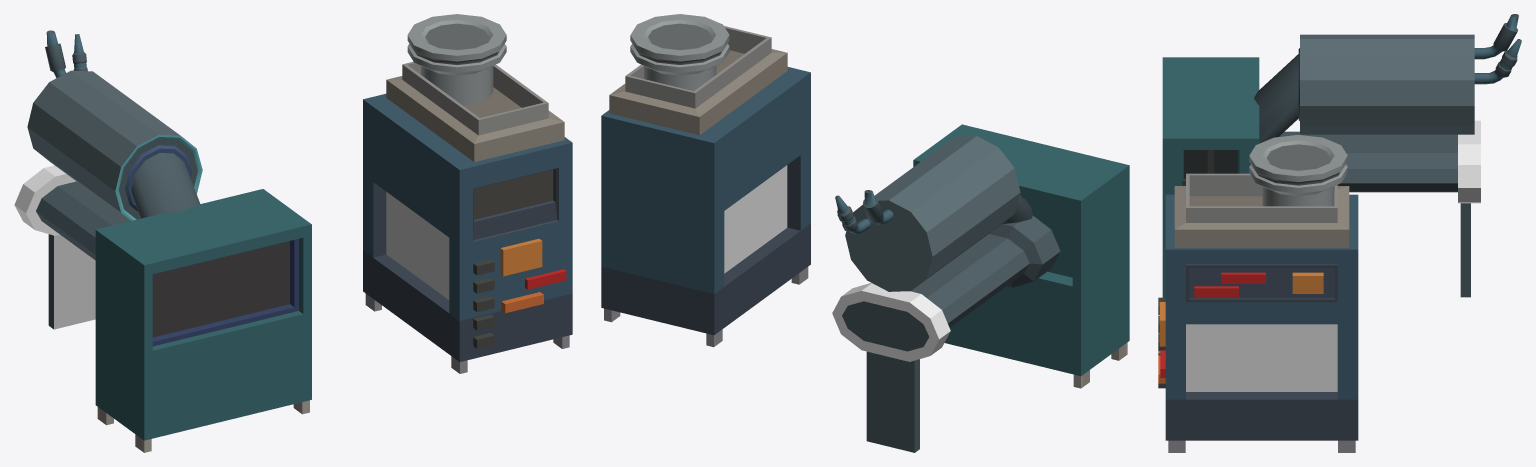
The model's file is Shawarma_Machines.fbx.
3 renders of one model, left to right at view 1: azimuth 30°, elevation 25°; view 2: azimuth 150°, elevation 25°; view 3: azimuth 270°, elevation 25°, orthographic.
Parts seen in each view (by area): view 1: Cylinder.004, Cube.036; view 2: Cylinder.004, Cube.036; view 3: Cube.036, Cylinder.004.
Part boxes in pixels (bbox=[...]): Cylinder.004: bbox=[14, 30, 311, 452]; Cube.036: bbox=[363, 14, 572, 373]; Cylinder.004: bbox=[832, 124, 1129, 452]; Cube.036: bbox=[601, 14, 810, 347]; Cube.036: bbox=[1158, 135, 1358, 452]; Cylinder.004: bbox=[1162, 14, 1521, 297].
Bounding box in the file's own units: 108 × 65.08 × 78.15.
